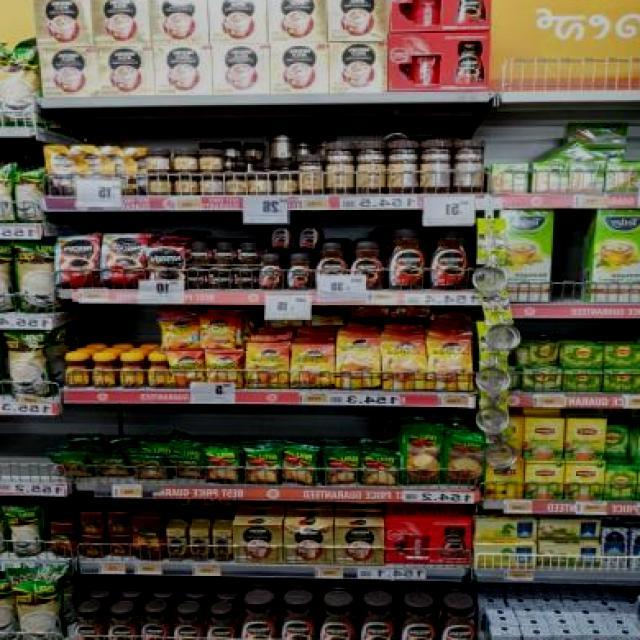Coffee: (426, 334, 473, 390), (430, 228, 470, 289), (382, 336, 425, 390), (336, 336, 380, 388), (388, 230, 426, 290), (56, 236, 100, 287), (102, 235, 144, 288), (248, 344, 290, 388), (292, 345, 333, 387), (146, 246, 186, 288), (316, 242, 350, 291), (350, 242, 384, 290), (241, 604, 279, 640), (360, 605, 399, 640), (282, 604, 318, 640), (320, 604, 356, 640), (200, 314, 237, 349), (205, 351, 242, 386), (442, 605, 478, 640), (401, 607, 438, 640), (160, 317, 198, 348), (171, 352, 205, 386), (288, 255, 314, 290), (142, 610, 172, 640), (76, 610, 105, 640), (107, 612, 138, 640), (260, 253, 284, 289), (174, 612, 204, 640), (206, 612, 236, 640), (270, 220, 296, 251), (121, 355, 145, 388), (91, 357, 116, 388), (298, 217, 322, 249), (147, 355, 171, 387), (66, 354, 88, 388), (188, 528, 209, 560), (212, 242, 238, 264), (188, 242, 212, 264), (208, 267, 232, 289), (168, 530, 185, 560), (214, 530, 231, 560), (186, 266, 208, 288), (238, 242, 259, 264), (233, 268, 256, 287)
